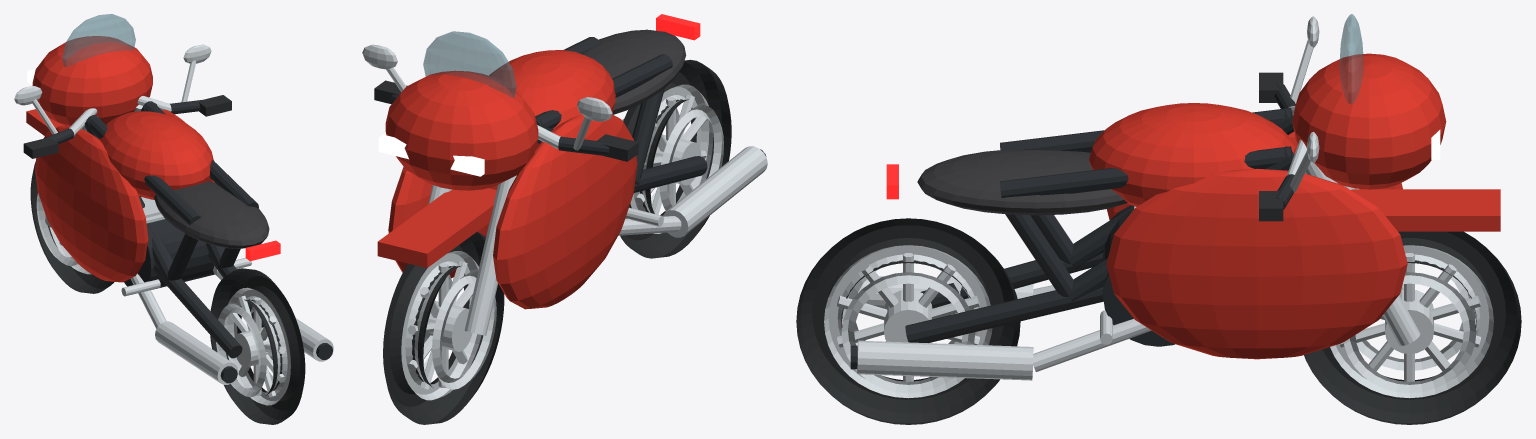
File: bike_sport.glb
3 renders of one model, left to right at view 1: azimuth 30°, elevation 25°; view 2: azimuth 150°, elevation 25°; view 3: azimuth 270°, elevation 25°, orthographic. The views are drawn at different scales.
Parts seen in each view (by area): view 1: Frame, Fork_Front, Wheel_R, Wheel_F; view 2: Frame, Fork_Front, Wheel_F, Wheel_R; view 3: Frame, Wheel_R, Fork_Front, Wheel_F.
Part boxes in pixels (bbox=[...]): Frame: bbox=[35, 101, 333, 384]; Fork_Front: bbox=[14, 14, 231, 227]; Wheel_R: bbox=[210, 268, 305, 424]; Wheel_F: bbox=[30, 162, 114, 293]; Frame: bbox=[388, 14, 767, 309]; Fork_Front: bbox=[362, 31, 638, 335]; Wheel_F: bbox=[383, 231, 504, 424]; Wheel_R: bbox=[620, 59, 731, 258]; Frame: bbox=[850, 103, 1407, 380]; Wheel_R: bbox=[796, 218, 1020, 424]; Fork_Front: bbox=[1259, 14, 1500, 345]; Wheel_F: bbox=[1304, 231, 1521, 424].
Size of what is drawn, in the model's own units: 0.92 by 1.27 by 2.07.
